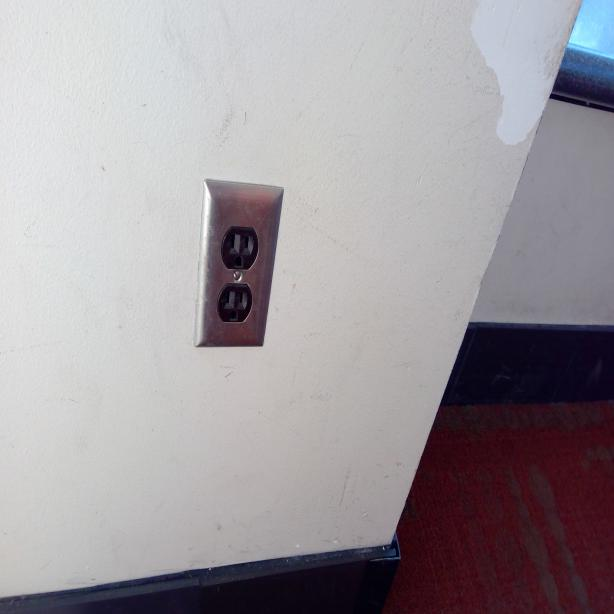typeb: (225, 226, 255, 270), (218, 286, 251, 324)
